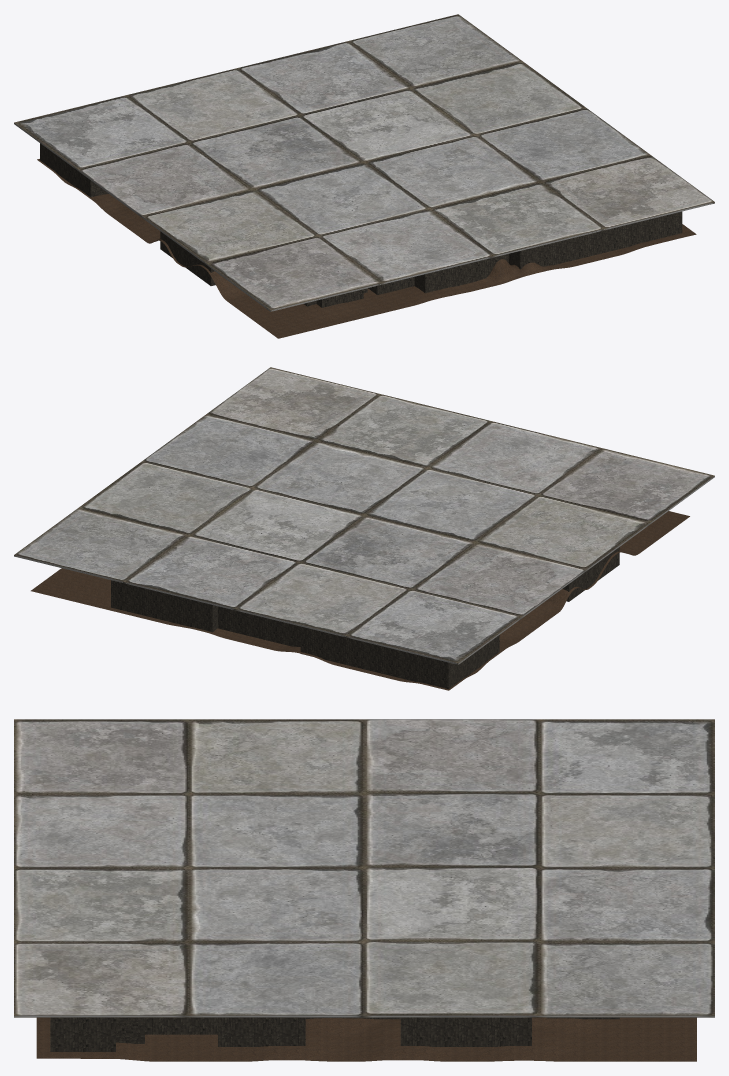
Rendered from MapBlenderFile.fbx.
3 renders of one model, top to bottom at view 1: azimuth 30°, elevation 25°; view 2: azimuth 150°, elevation 25°; view 3: azimuth 270°, elevation 25°, orthographic. The views are drawn at different scales.
Parts seen in each view (by area): view 1: Ceiling, Dirt, Walls; view 2: Ceiling, Walls, Dirt; view 3: Ceiling, Dirt, Walls.
Part boxes in pixels (box(x1,y1,x2,y2)): Ceiling: box(14, 14, 714, 311); Dirt: box(37, 159, 696, 338); Walls: box(40, 143, 682, 307); Ceiling: box(14, 367, 714, 664); Walls: box(111, 547, 619, 689); Dirt: box(31, 511, 689, 690); Ceiling: box(14, 719, 714, 1017); Dirt: box(36, 1017, 696, 1061); Walls: box(50, 1017, 619, 1051).
Size of the model in its own units: 7583 by 628 by 7583.
4 materials, 4 textured.
